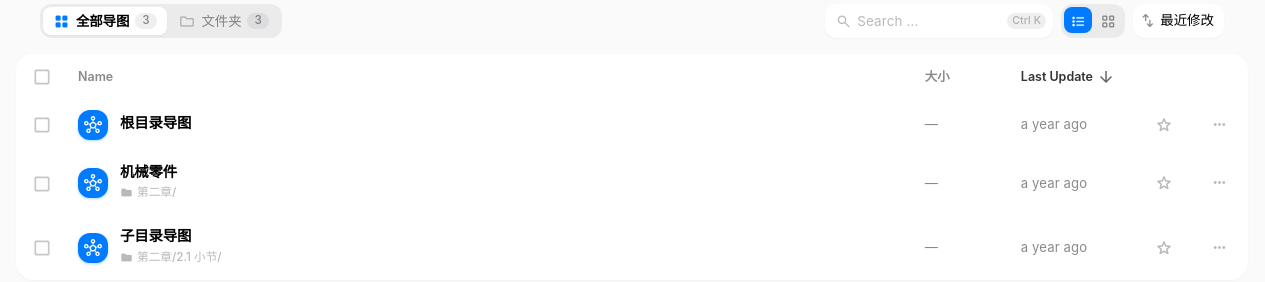
Test case: Main workspace folder browser & segmented switcher › clicking folder path badge in 全部导图 jumps directly to that folder
The image size is (1265, 282).
Expected: the link "机械零件" is shown, [120,162,177,182]
Click the button "第二章/" at (148, 193), box [120,185,176,200]
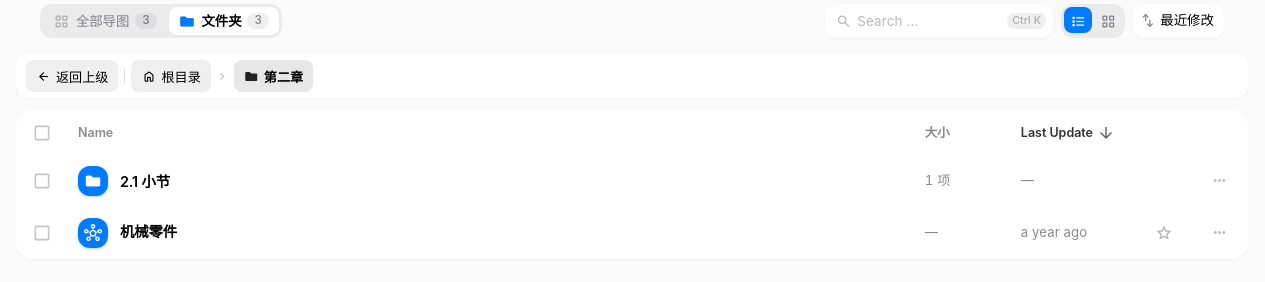
Expected: the link "机械零件" is shown, [120,222,177,243]
Result: the element named "文件夹路径" is shown at [16,54,1248,98]
Result: the link "根目录导图" is gone
